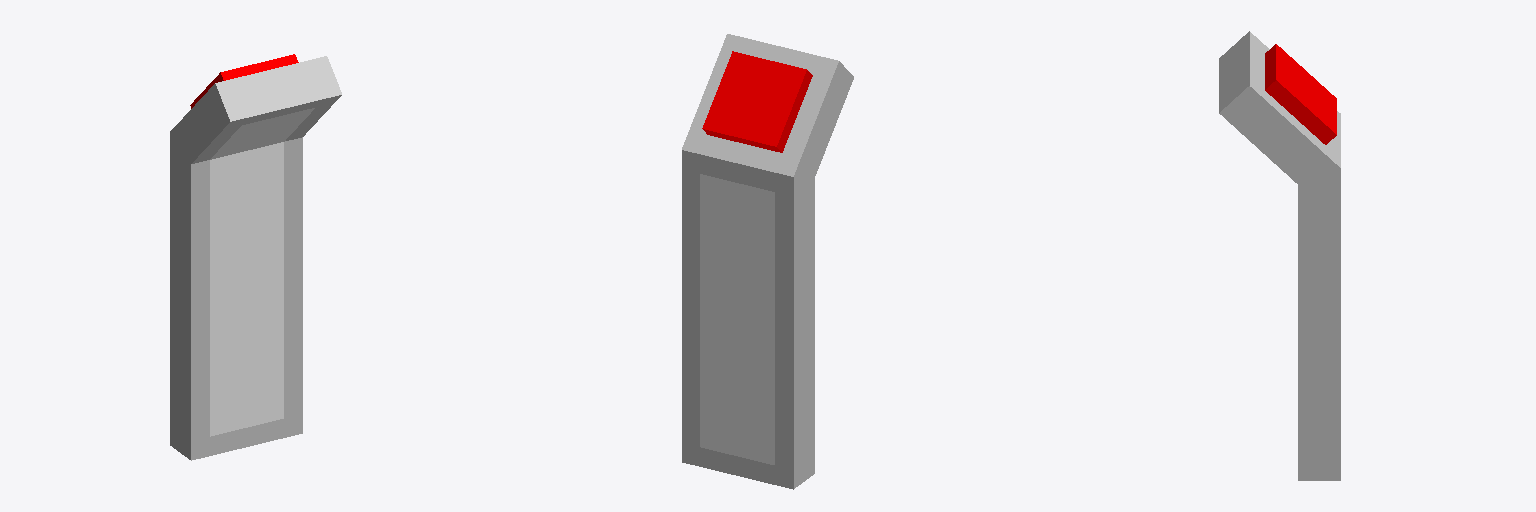
3 views of the same model, side by side, from view 1: azimuth 30°, elevation 25°; view 2: azimuth 150°, elevation 25°; view 3: azimuth 270°, elevation 25° (orthographic).
Visible parts, largest first — view 1: cube; view 2: cube; view 3: cube.
Part boxes in pixels (left/top/right/bottom): cube: left=170, top=54, right=341, bottom=460; cube: left=682, top=34, right=853, bottom=489; cube: left=1219, top=31, right=1340, bottom=480.
Size of the model in its own units: 0.375 by 1.27 by 0.3536.
1 materials, 1 textured.